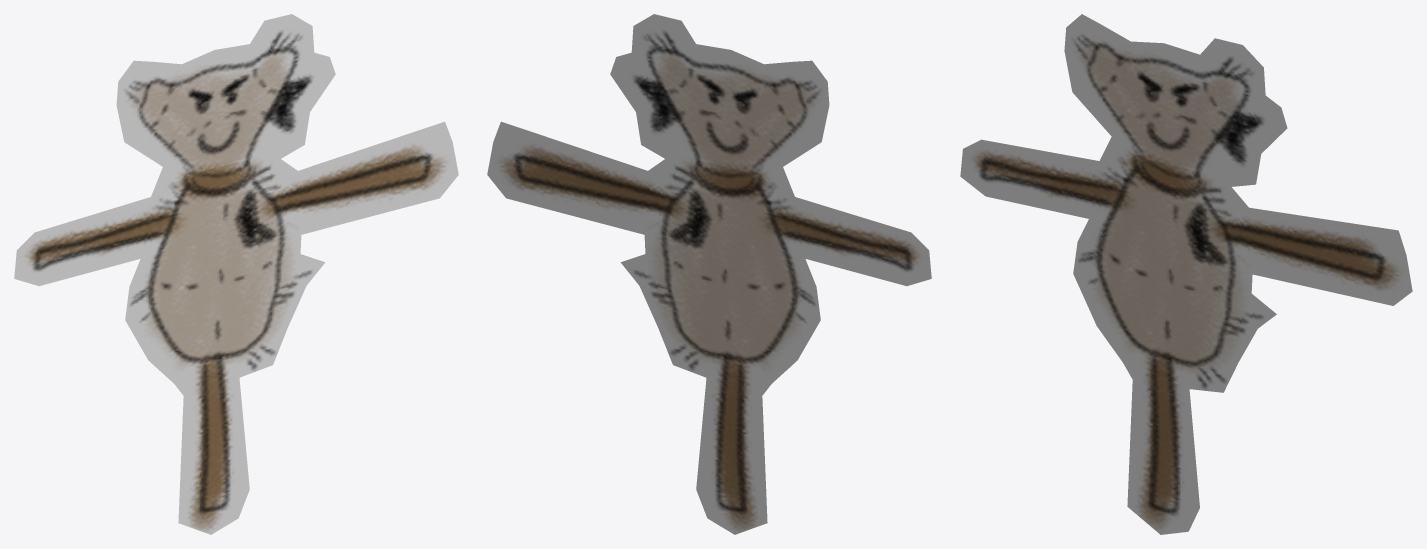
File: Scarecrow.fbx
3 renders of one model, left to right at view 1: azimuth 30°, elevation 25°; view 2: azimuth 150°, elevation 25°; view 3: azimuth 330°, elevation 25°, orthographic.
Parts seen in each view (by area): view 1: Scarecrow; view 2: Scarecrow; view 3: Scarecrow.
Boxes of the visible parts, left/top/right/bottom form: Scarecrow: left=14, top=14, right=458, bottom=534; Scarecrow: left=487, top=14, right=931, bottom=534; Scarecrow: left=960, top=14, right=1412, bottom=534.
Size of the model in its own units: 30.64 by 33.01 by 5.38e-06.
